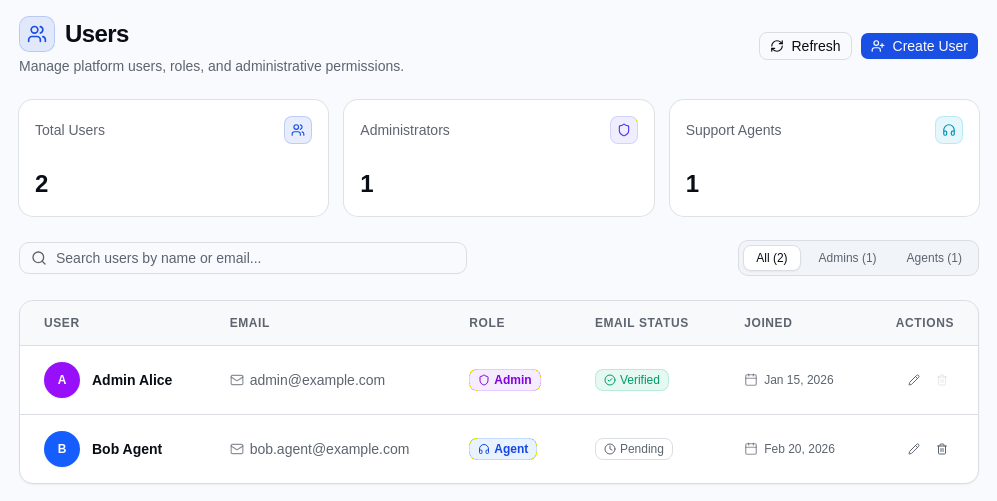
it: UsersPage Component › 3. Search & Text Filtering › filters users by email with case-insensitivity and whitespace trimming
Expected: the text "Admin Alice" is shown, [92,372,172,388]
Type "  ADMIN@EXAMPLE.COM  " into the search field with placeholder "Search users by name or email..." at coordinates (243, 258), box [19,242,467,274]
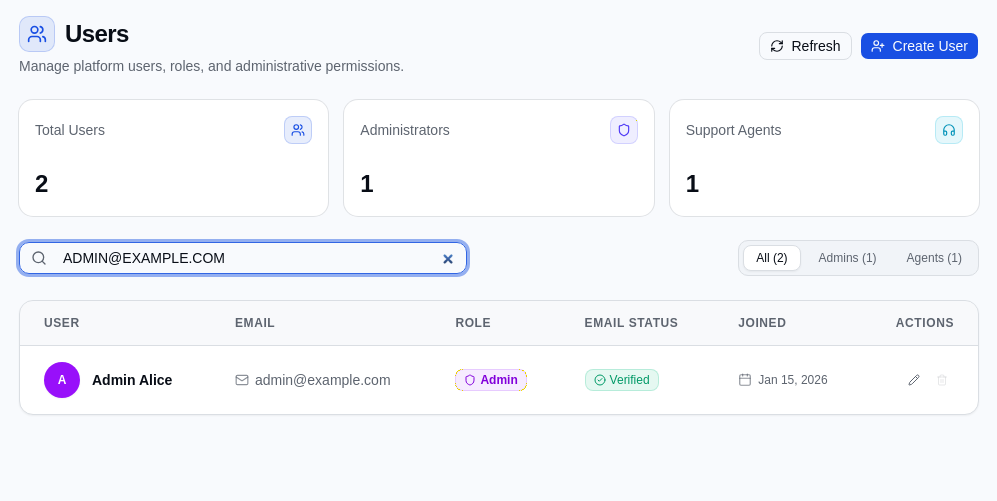
Expected: the text "Admin Alice" is shown, [92,372,172,388]
Now the text "Bob Agent" is gone
